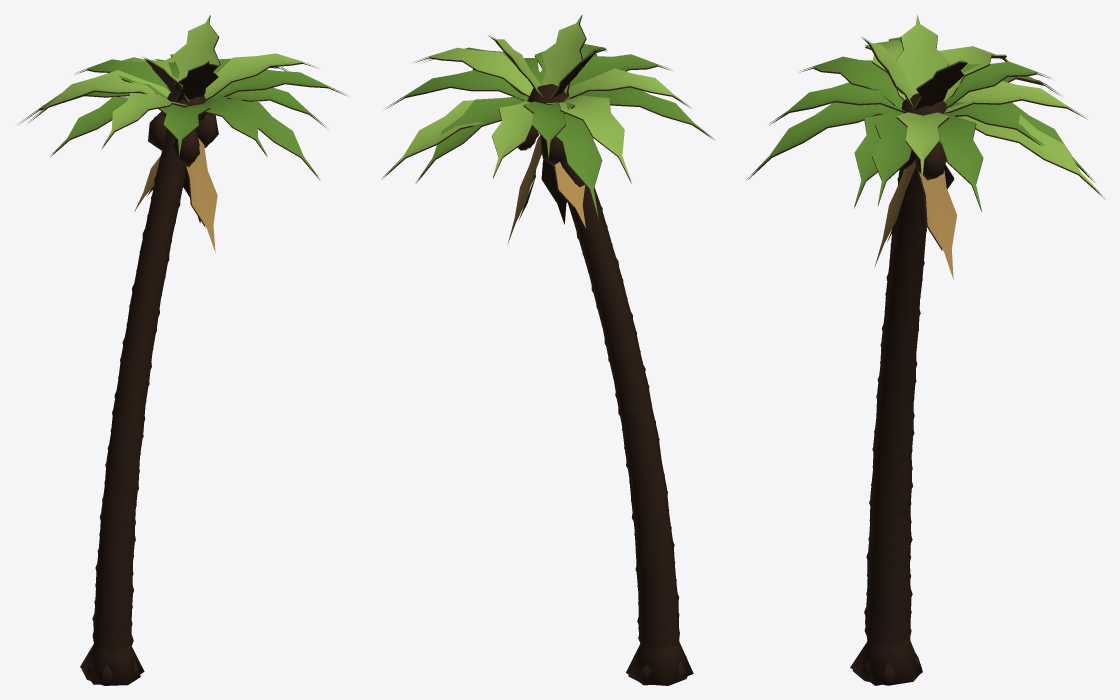
File: palm_b.glb
The picture shows the model from 3 angles, left to right: view 1: azimuth 30°, elevation 25°; view 2: azimuth 150°, elevation 25°; view 3: azimuth 270°, elevation 25°; orthographic projection. The views are drawn at different scales.
Visible parts, largest first — view 1: palm_b, palm_b_LOD1_outline, palm_b_outline; view 2: palm_b, palm_b_LOD1_outline, palm_b_outline; view 3: palm_b, palm_b_LOD1_outline, palm_b_outline.
Part boxes in pixels (<box>): palm_b: <box>18,15,348,252</box>; palm_b_LOD1_outline: <box>80,37,279,684</box>; palm_b_outline: <box>19,15,348,685</box>; palm_b: <box>381,14,715,243</box>; palm_b_LOD1_outline: <box>473,25,693,685</box>; palm_b_outline: <box>382,15,714,685</box>; palm_b: <box>745,14,1104,279</box>; palm_b_LOD1_outline: <box>850,36,1045,685</box>; palm_b_outline: <box>748,19,1104,685</box>.
Size of what is drawn, in the model's own units: 5.23 by 10.28 by 4.9.
